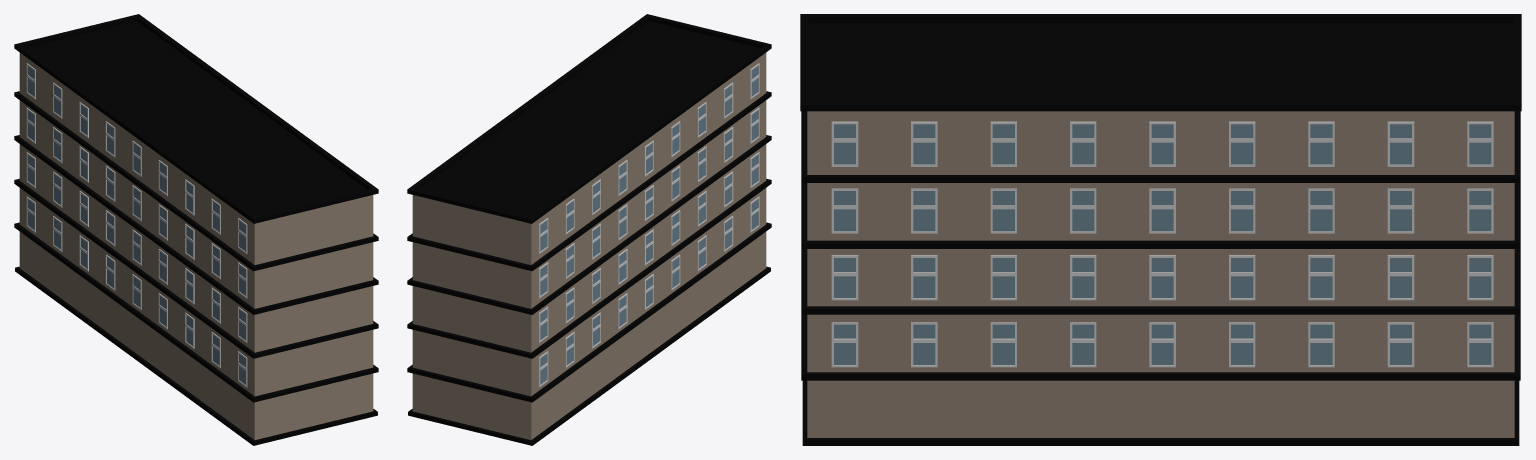
File: app bege.fbx
3 renders of one model, left to right at view 1: azimuth 30°, elevation 25°; view 2: azimuth 150°, elevation 25°; view 3: azimuth 270°, elevation 25°, orthographic. The views are drawn at different scales.
Visible parts, largest first — view 1: appartment bège; view 2: appartment bège; view 3: appartment bège.
Boxes of the visible parts, box(x1,y1,x2,y2) form: appartment bège: box(14, 14, 378, 445); appartment bège: box(407, 14, 771, 445); appartment bège: box(800, 14, 1521, 445).
Size of the model in its own units: 6.78 by 11.76 by 22.57.
